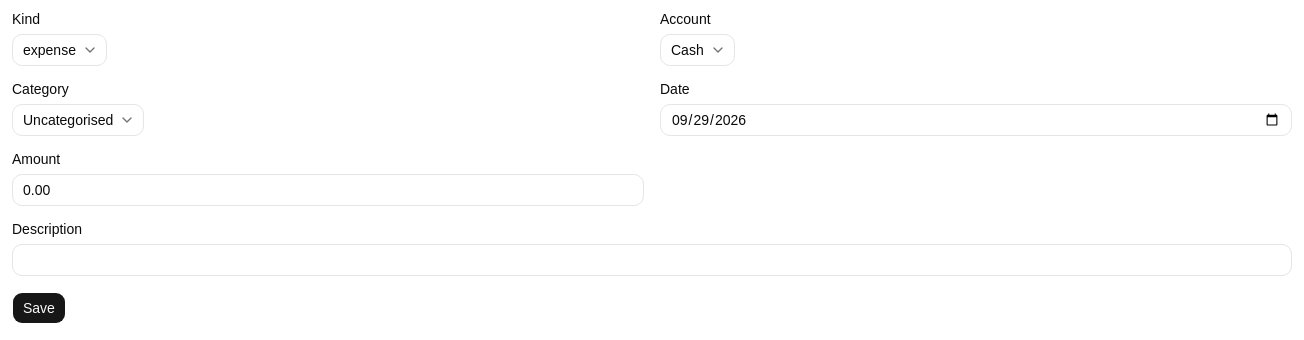
Test: TransactionForm › rejects negative amounts in the amount field
Check: the text "Cash" is shown, box [671, 40, 704, 60]
Replace the text in the field labelled "Amount" with "-5" at x=328, y=190, box [12, 174, 644, 206]
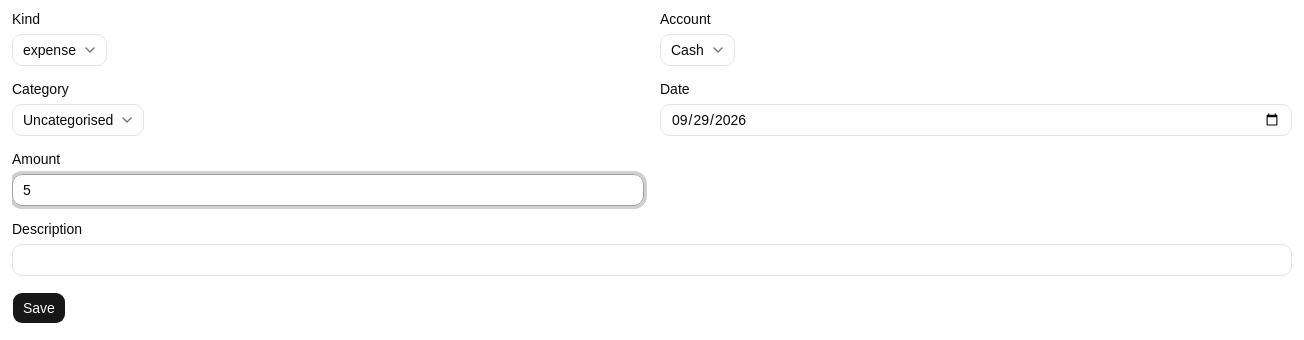
Check: the field labelled "Amount" holds "5", box [12, 174, 644, 206]
